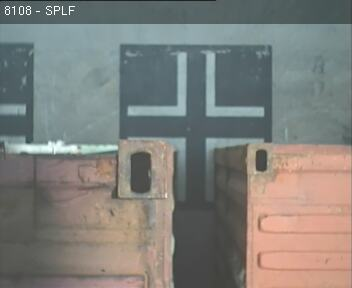groundmarker_1: (127, 135, 264, 201), (126, 52, 263, 117)
